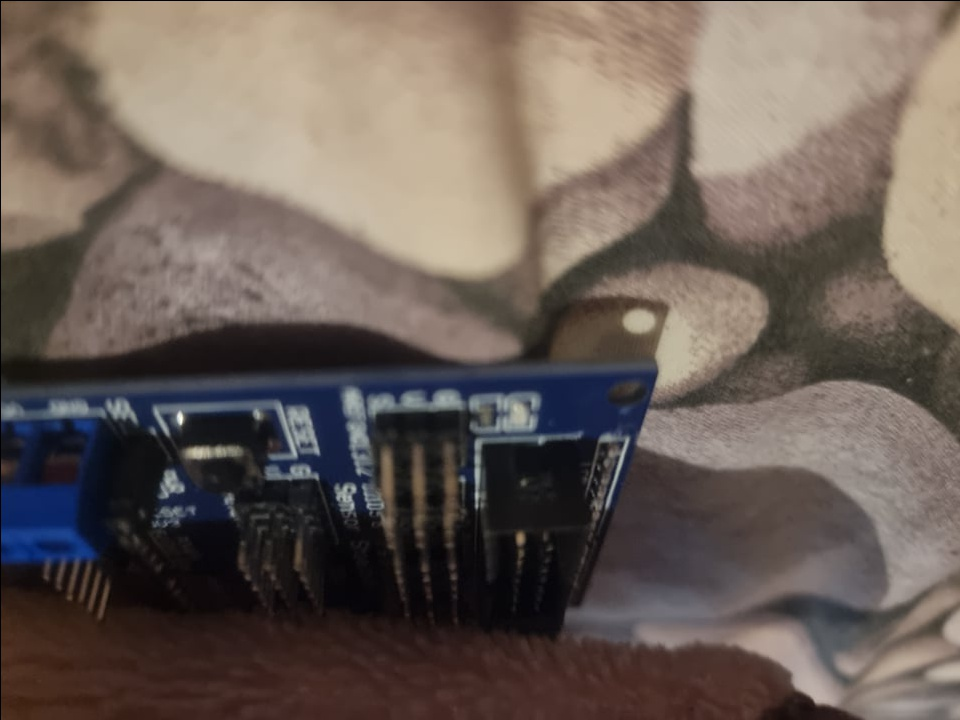5V EXPANSION: (3, 358, 657, 648)
